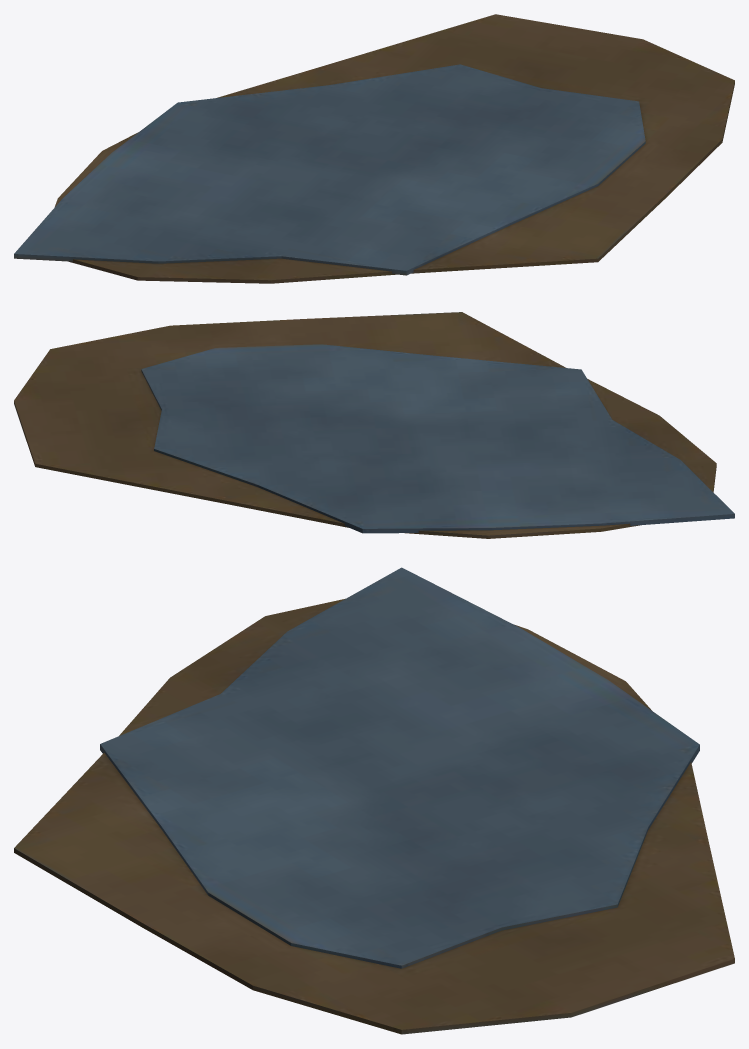
The model's file is puddle_idle.glb.
The picture shows the model from 3 angles, top to bottom: view 1: azimuth 30°, elevation 25°; view 2: azimuth 150°, elevation 25°; view 3: azimuth 270°, elevation 25°; orthographic projection. The views are drawn at different scales.
Parts seen in each view (by area): view 1: puddle; view 2: puddle; view 3: puddle.
Boxes of the visible parts, x1=… form: puddle: x1=14, y1=14, x2=734, y2=283; puddle: x1=14, y1=312, x2=734, y2=538; puddle: x1=14, y1=567, x2=734, y2=1034.
Bounding box in the file's own units: 1.28 × 0.01 × 0.8469.
Materials: 1 (1 with a texture image).
